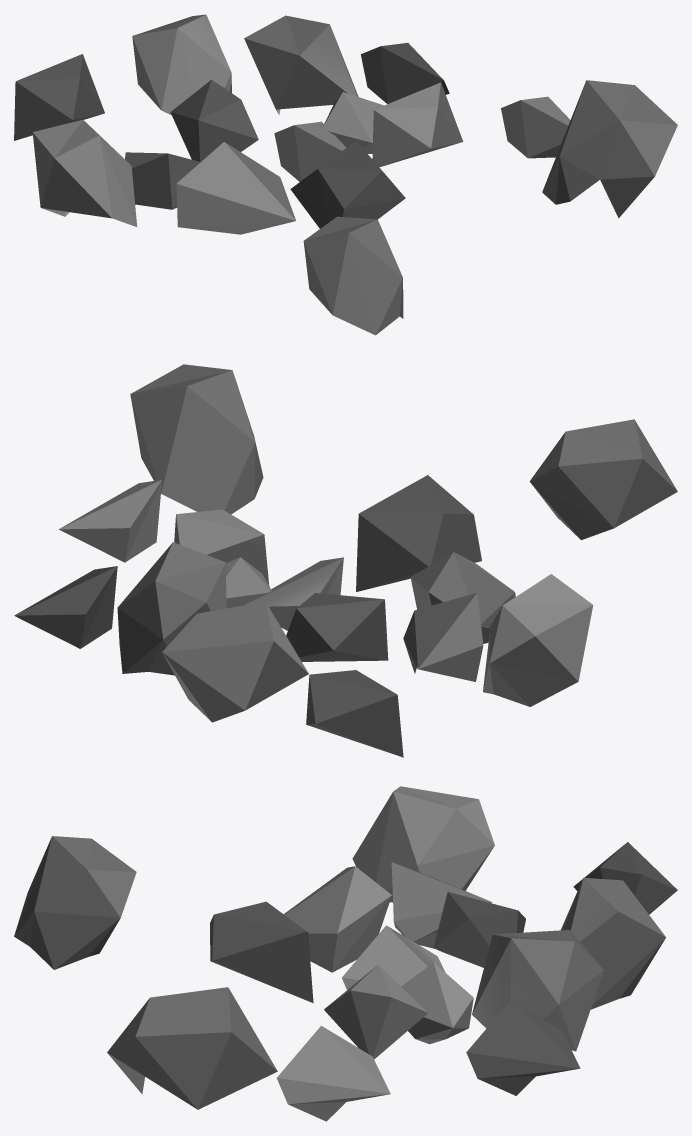
Rendered from stoun_props5.fbx.
3 renders of one model, top to bottom at view 1: azimuth 30°, elevation 25°; view 2: azimuth 150°, elevation 25°; view 3: azimuth 270°, elevation 25°, orthographic. The views are drawn at different scales.
Visible parts, largest first — view 1: Object.026; view 2: Object.026; view 3: Object.026.
Boxes of the visible parts, left/top/right/bottom form: Object.026: left=14, top=14, right=677, bottom=335; Object.026: left=14, top=364, right=677, bottom=757; Object.026: left=14, top=786, right=677, bottom=1121.
Size of the model in its own units: 101 by 21.72 by 110.
